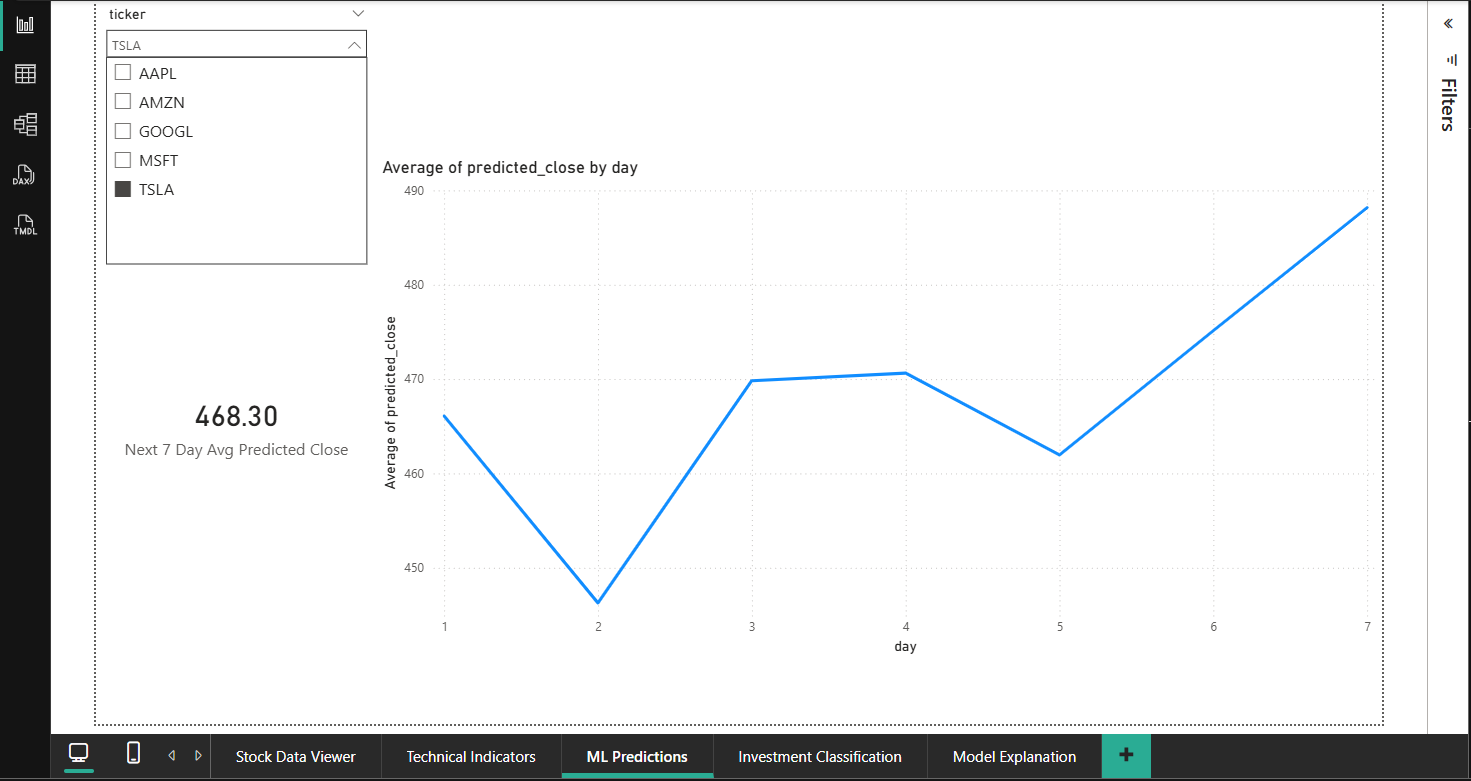

Layout of this report page (visuals, bound fields, positions):
{"tool":"powerbi","page":{"name":"ML Predictions","canvas":[1280,720],"ordinal":2},"visuals":[{"type":"slicer","fields":{"Values":["ml_predictions.ticker"]},"box":[0,0,279.9,279.9],"z":0},{"type":"lineChart","fields":{"Category":["ml_predictions.day"],"Y":["Avg(ml_predictions.predicted_close)"]},"box":[279.9,155.1,1000.3,499.5],"z":1000},{"type":"card","fields":{"Values":["historical_data.Next 7 Day Avg Predicted Close"]},"box":[0,258,279.9,328],"z":2000}]}

Visuals, with their boxes on the page's 1280x720 design canvas (x1, y1, x2, y2). These are canvas units, not pixel positions in the 1471x781 screenshot, which may show the page scaled, cropped or inside an application window:
slicer - ml_predictions.ticker: {"left": 0, "top": 0, "right": 280, "bottom": 280}
lineChart - ml_predictions.day x Avg(ml_predictions.predicted_close): {"left": 280, "top": 155, "right": 1280, "bottom": 655}
card - historical_data.Next 7 Day Avg Predicted Close: {"left": 0, "top": 258, "right": 280, "bottom": 586}
